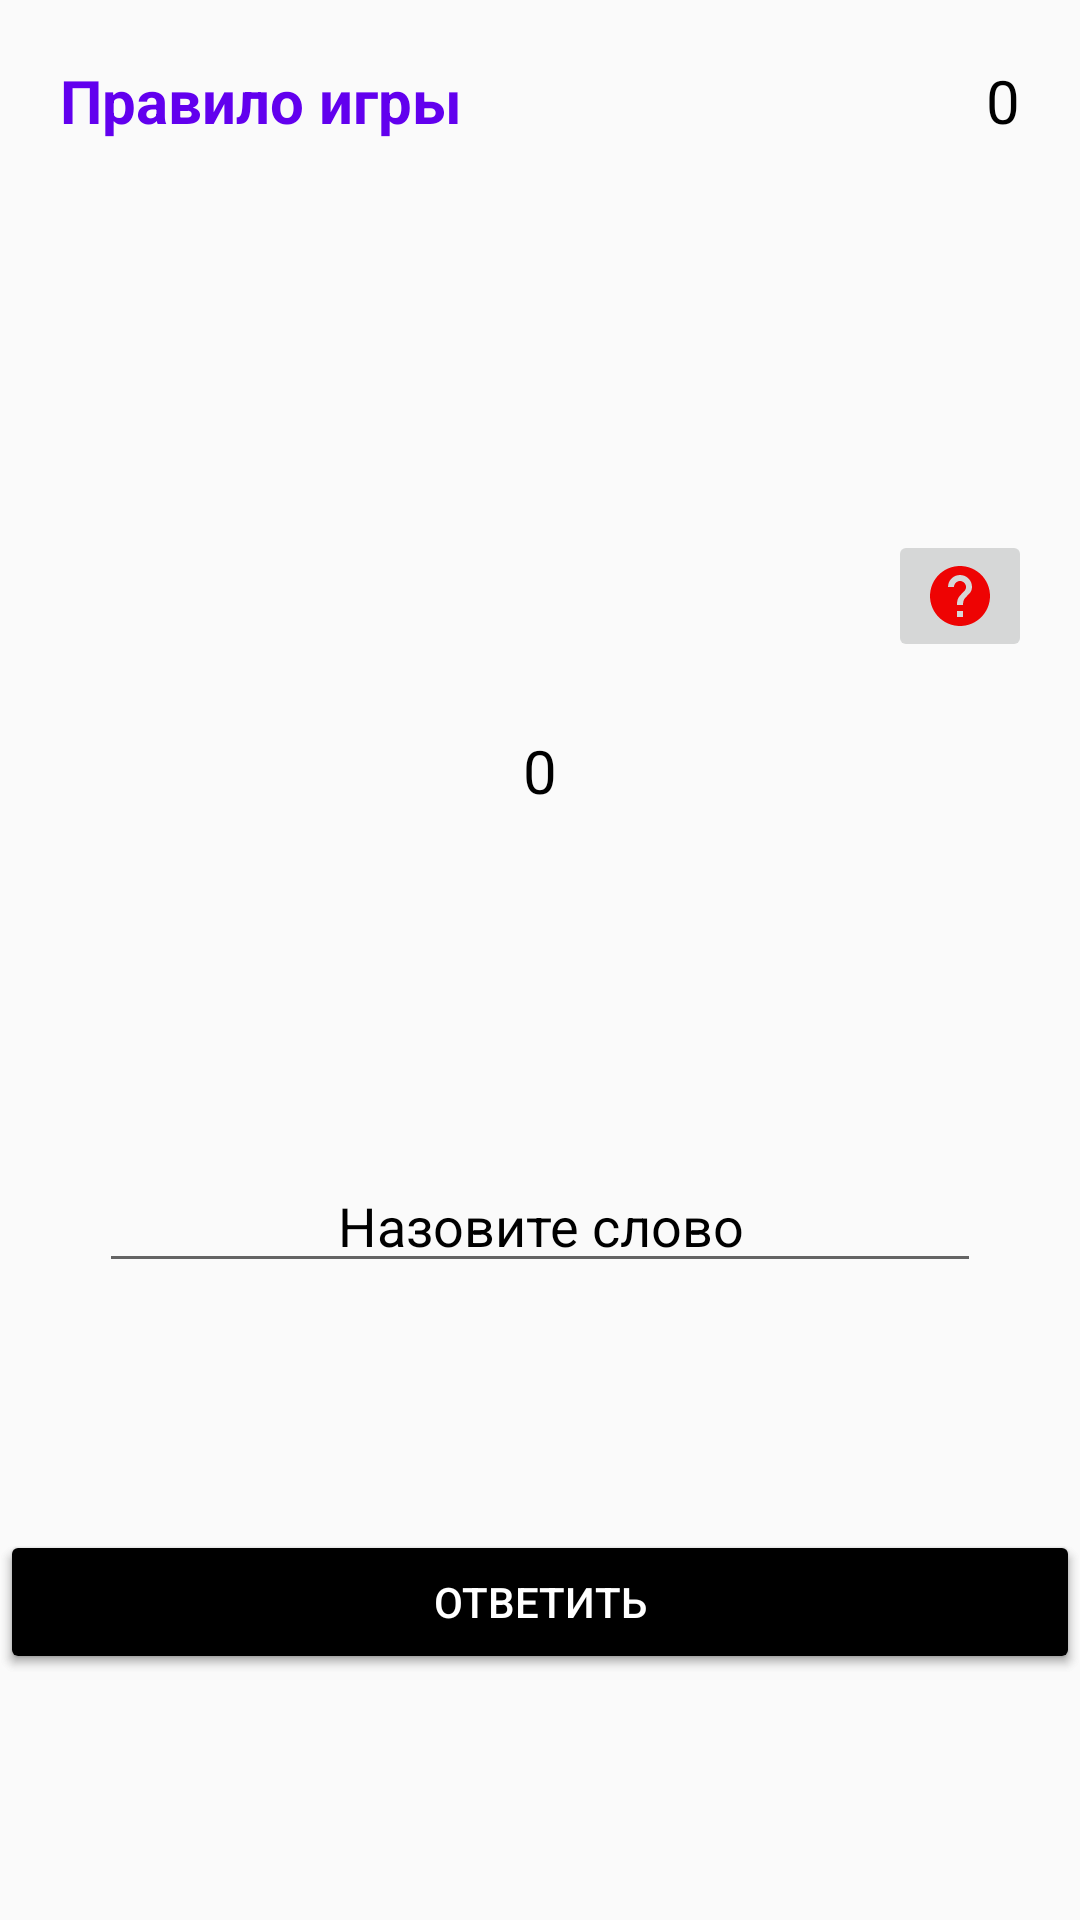

Named icons in this screenshot (1080px x 1920px) and their centers, point (x, y):
help: point (960, 596)
